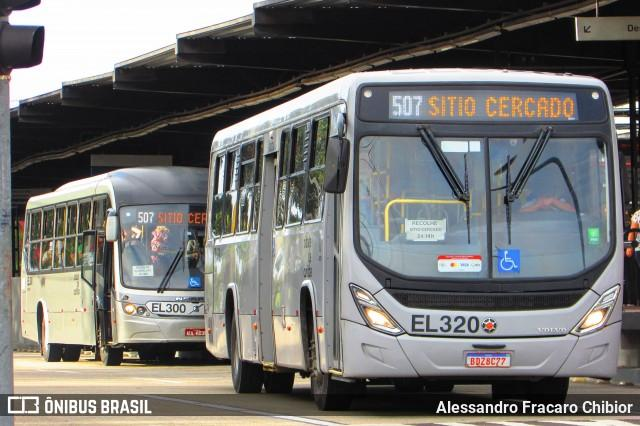SITIO CERCADO: (425, 91, 577, 120)
